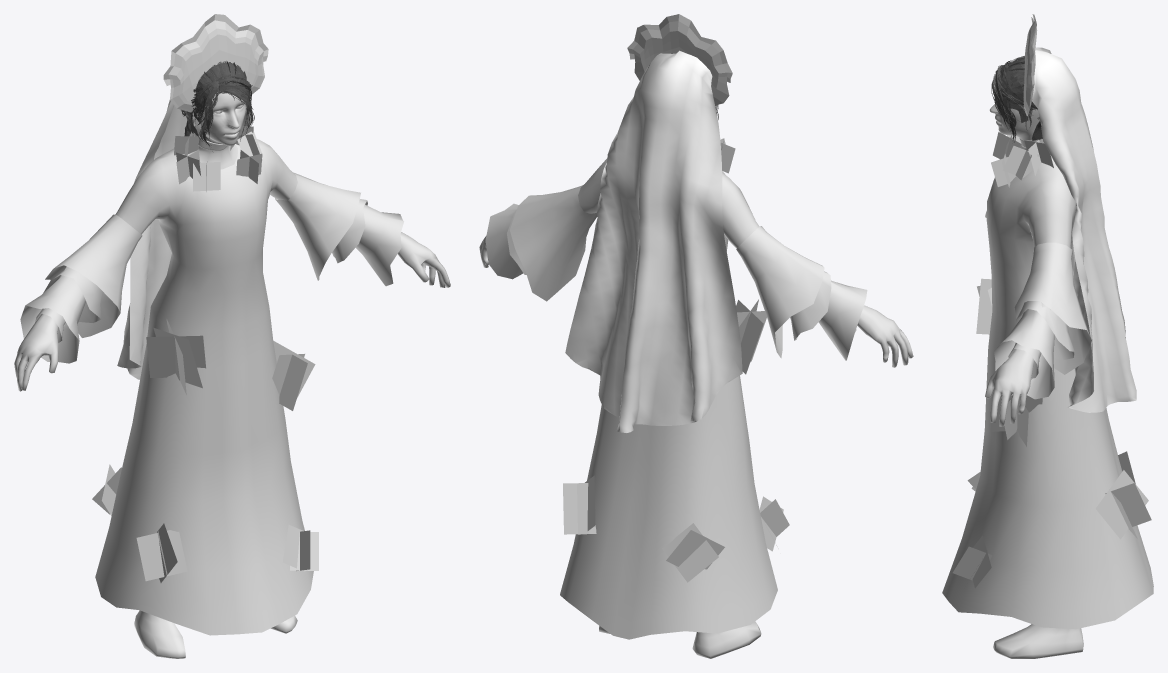
Rendered from BrideNew2.fbx.
The picture shows the model from 3 angles, left to right: view 1: azimuth 30°, elevation 25°; view 2: azimuth 150°, elevation 25°; view 3: azimuth 270°, elevation 25°; orthographic projection.
Visible parts, largest first — view 1: BRIDEFINISHEDMODEL, Bride@; view 2: Bride@, BRIDEFINISHEDMODEL; view 3: BRIDEFINISHEDMODEL, Bride@.
Boxes of the visible parts, bbox=[...] form: BRIDEFINISHEDMODEL: bbox=[14, 20, 450, 658]; Bride@: bbox=[20, 14, 403, 582]; Bride@: bbox=[485, 14, 867, 582]; BRIDEFINISHEDMODEL: bbox=[479, 21, 913, 658]; BRIDEFINISHEDMODEL: bbox=[942, 21, 1153, 658]; Bride@: bbox=[952, 14, 1151, 588].
Bounding box in the file's own units: 146 × 201 × 63.2.
